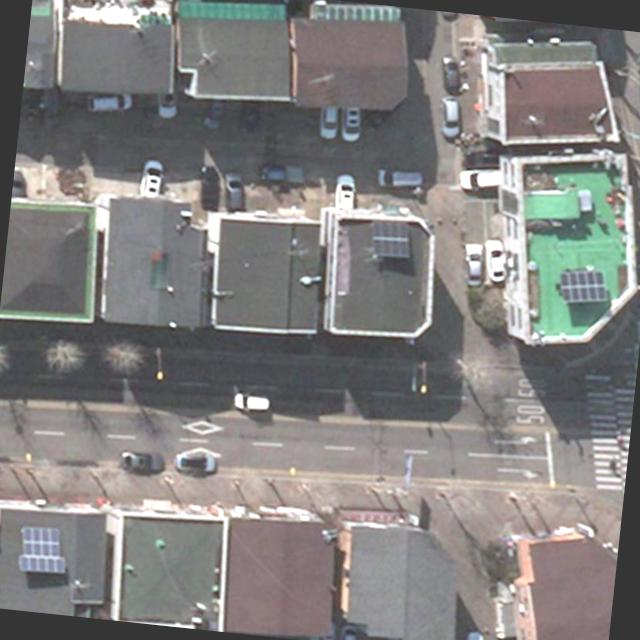solar: (15, 524, 70, 581), (554, 266, 614, 310), (364, 216, 414, 265)
